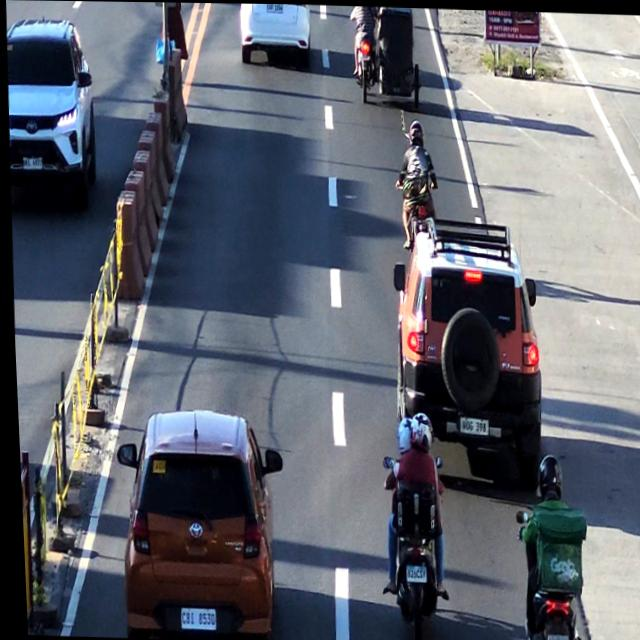Car: (118, 410, 276, 640), (240, 3, 313, 65)
Jeep: (389, 223, 545, 449)
License-Plate: (172, 602, 210, 633), (452, 413, 487, 437), (397, 560, 425, 586), (540, 628, 565, 640), (263, 3, 284, 13)
Motorcycle: (376, 413, 444, 640), (507, 453, 579, 640), (390, 123, 437, 216)
Tricycle: (344, 5, 421, 98)
